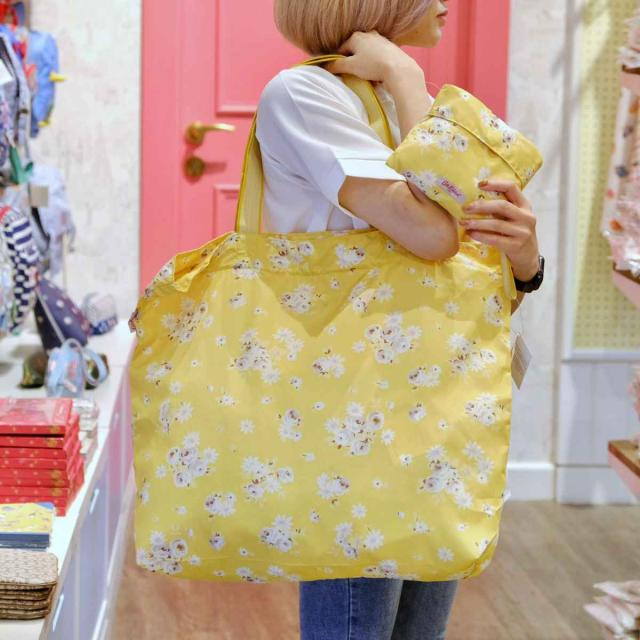handbag: (114, 197, 527, 597)
